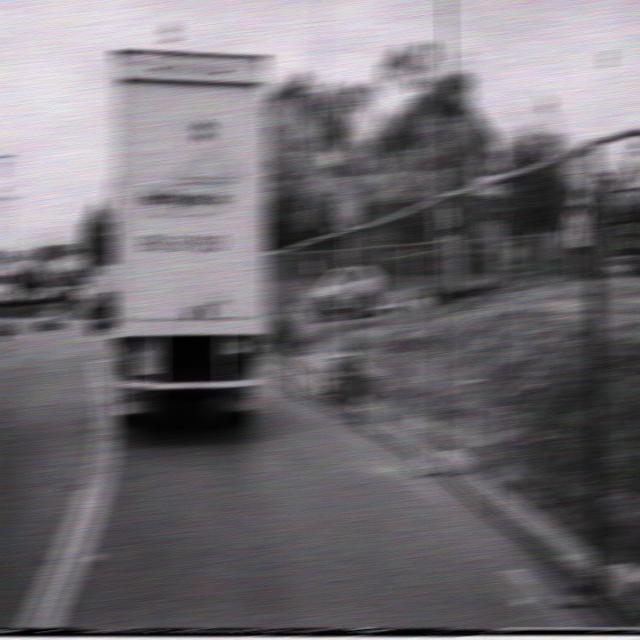stop: (332, 188, 361, 230)
